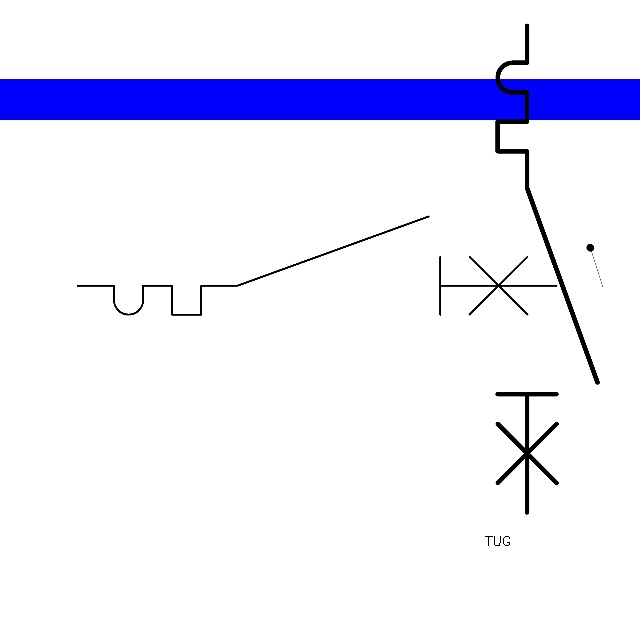interruptor_termomagnetico: (485, 13, 610, 525), (65, 204, 569, 327)
